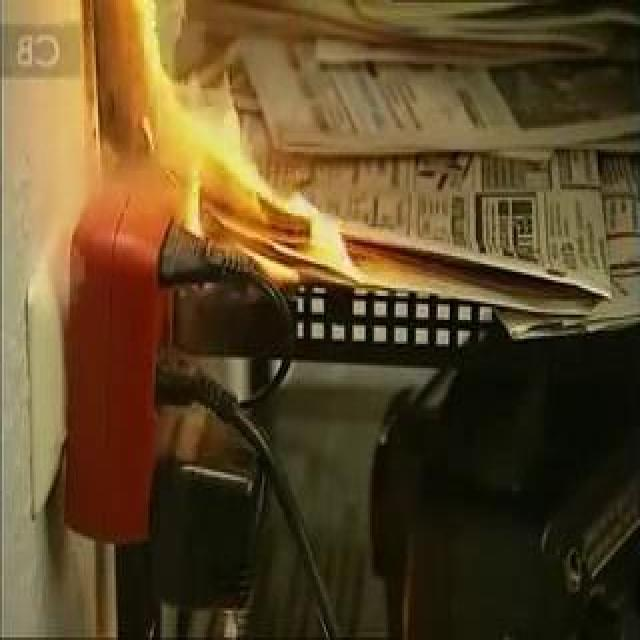Fire: (84, 3, 414, 320)
